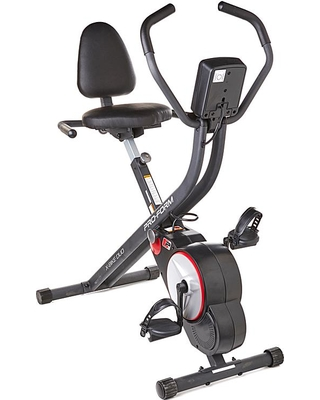gym_bike: (30, 5, 286, 390)
